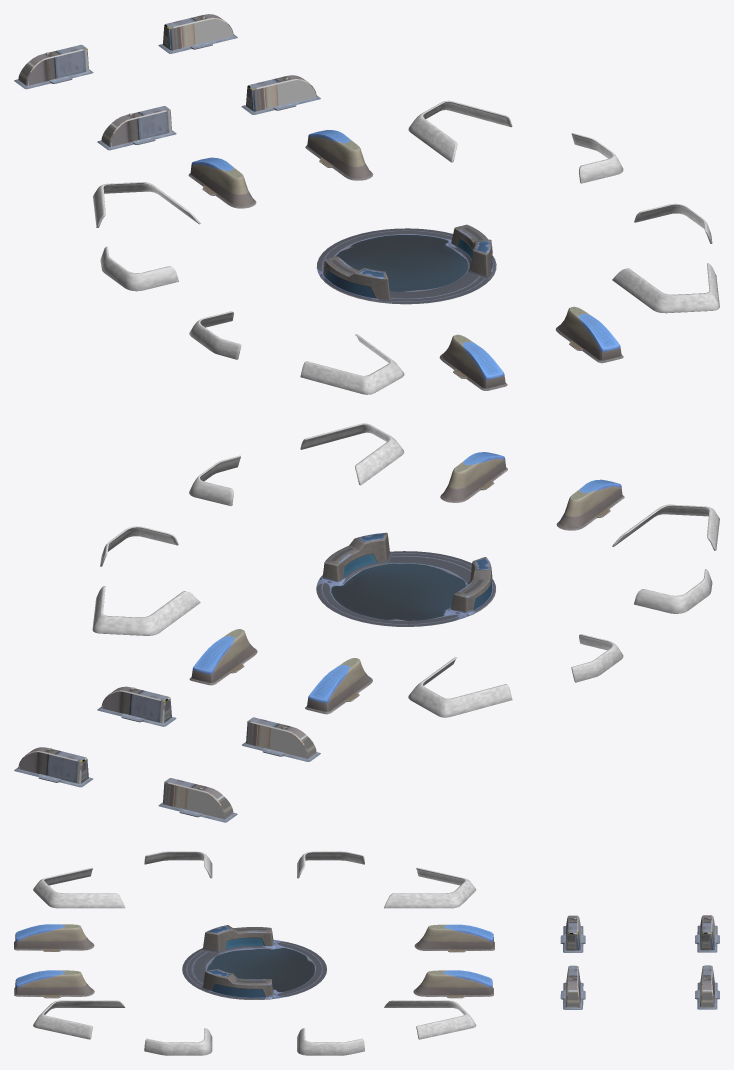
Rendered from pref_Area_Winter_Boss_beta_01_lv3.fbx.
3 views of the same model, one above another, from view 1: azimuth 30°, elevation 25°; view 2: azimuth 150°, elevation 25°; view 3: azimuth 270°, elevation 25° (orthographic). The views are drawn at different scales.
Visible parts, largest first — view 1: pref_sm_beach_winter_techobstacle03_glass_lv3 (×2), pref_sm_beach_winter_boss_middle_02_lv3, pref_sm_beach_winter_techobstacle06_lv3 (×4), pref_sm_beach_winter_icewall04_lv3 (8), pref_sm_beach_winter_icewall04_lv3 (11), pref_sm_beach_winter_icewall04_lv3 (9), pref_sm_beach_winter_icewall04_lv3 (10); view 2: pref_sm_beach_winter_techobstacle03_glass_lv3 (×2), pref_sm_beach_winter_boss_middle_02_lv3, pref_sm_beach_winter_techobstacle06_lv3 (×4), pref_sm_beach_winter_icewall04_lv3 (8), pref_sm_beach_winter_icewall04_lv3 (11), pref_sm_beach_winter_icewall04_lv3 (9), pref_sm_beach_winter_icewall04_lv3 (10); view 3: pref_sm_beach_winter_techobstacle03_glass_lv3 (×2), pref_sm_beach_winter_boss_middle_02_lv3, pref_sm_beach_winter_techobstacle06_lv3 (×4), pref_sm_beach_winter_icewall04_lv3 (10), pref_sm_beach_winter_icewall04_lv3 (9), pref_sm_beach_winter_icewall04_lv3 (8), pref_sm_beach_winter_icewall04_lv3 (11).
Boxes of the visible parts, x1=… form: pref_sm_beach_winter_techobstacle03_glass_lv3 (×2): x1=93, y1=100, x2=719, y2=394; pref_sm_beach_winter_boss_middle_02_lv3: x1=316, y1=224, x2=496, y2=304; pref_sm_beach_winter_techobstacle06_lv3 (×4): x1=188, y1=130, x2=623, y2=390; pref_sm_beach_winter_icewall04_lv3 (8): x1=97, y1=106, x2=176, y2=150; pref_sm_beach_winter_icewall04_lv3 (11): x1=14, y1=44, x2=93, y2=89; pref_sm_beach_winter_icewall04_lv3 (9): x1=241, y1=75, x2=320, y2=114; pref_sm_beach_winter_icewall04_lv3 (10): x1=158, y1=14, x2=237, y2=53; pref_sm_beach_winter_techobstacle03_glass_lv3 (×2): x1=92, y1=423, x2=719, y2=717; pref_sm_beach_winter_boss_middle_02_lv3: x1=316, y1=532, x2=495, y2=626; pref_sm_beach_winter_techobstacle06_lv3 (×4): x1=189, y1=452, x2=624, y2=714; pref_sm_beach_winter_icewall04_lv3 (8): x1=242, y1=717, x2=320, y2=761; pref_sm_beach_winter_icewall04_lv3 (11): x1=158, y1=778, x2=237, y2=822; pref_sm_beach_winter_icewall04_lv3 (9): x1=97, y1=686, x2=176, y2=726; pref_sm_beach_winter_icewall04_lv3 (10): x1=14, y1=747, x2=92, y2=787; pref_sm_beach_winter_techobstacle03_glass_lv3 (×2): x1=33, y1=851, x2=476, y2=1055; pref_sm_beach_winter_boss_middle_02_lv3: x1=182, y1=925, x2=326, y2=999; pref_sm_beach_winter_techobstacle06_lv3 (×4): x1=14, y1=924, x2=494, y2=998; pref_sm_beach_winter_icewall04_lv3 (10): x1=695, y1=965, x2=719, y2=1009; pref_sm_beach_winter_icewall04_lv3 (9): x1=560, y1=965, x2=585, y2=1009; pref_sm_beach_winter_icewall04_lv3 (8): x1=560, y1=915, x2=585, y2=952; pref_sm_beach_winter_icewall04_lv3 (11): x1=695, y1=915, x2=719, y2=952.
Size of the model in its own units: 39.48 by 2.11 by 60.14.
